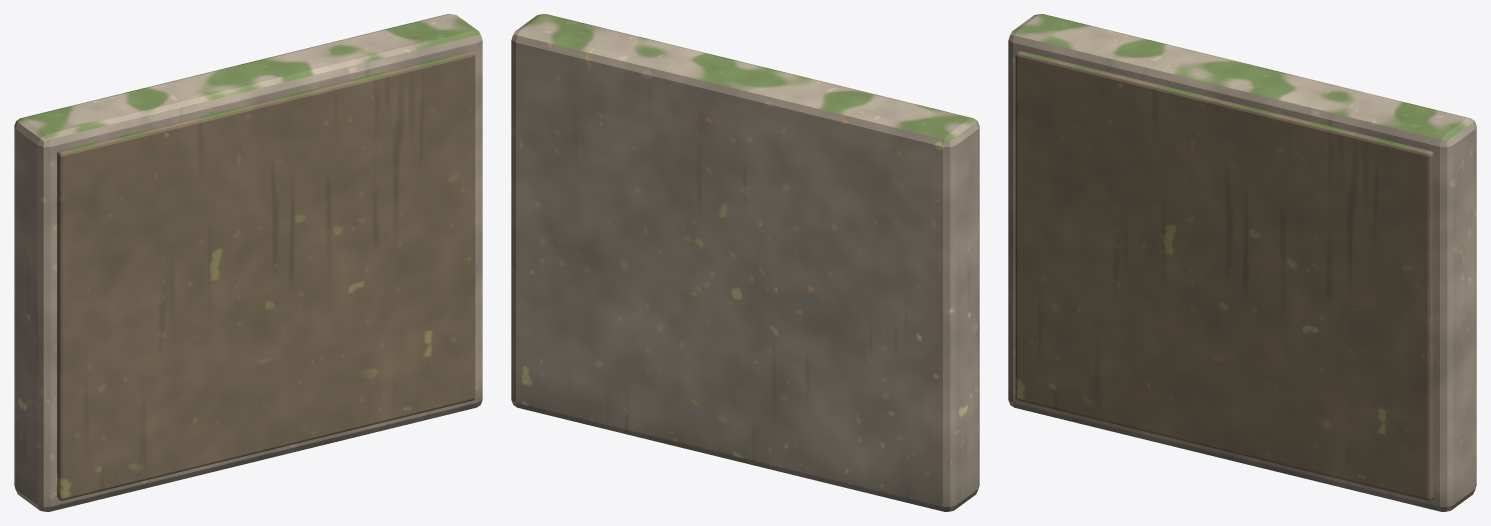
Rendered from fresco_slab.glb.
3 renders of one model, left to right at view 1: azimuth 30°, elevation 25°; view 2: azimuth 150°, elevation 25°; view 3: azimuth 330°, elevation 25°, orthographic.
Visible parts, largest first — view 1: FrescoSlab; view 2: FrescoSlab; view 3: FrescoSlab.
Part boxes in pixels (box(x1,y1,x2,y2)): FrescoSlab: box(14, 14, 482, 511); FrescoSlab: box(511, 14, 979, 511); FrescoSlab: box(1008, 14, 1476, 511).
Bounding box in the file's own units: 3.2 × 2.6 × 0.45.
Materials: 1 (1 with a texture image).
